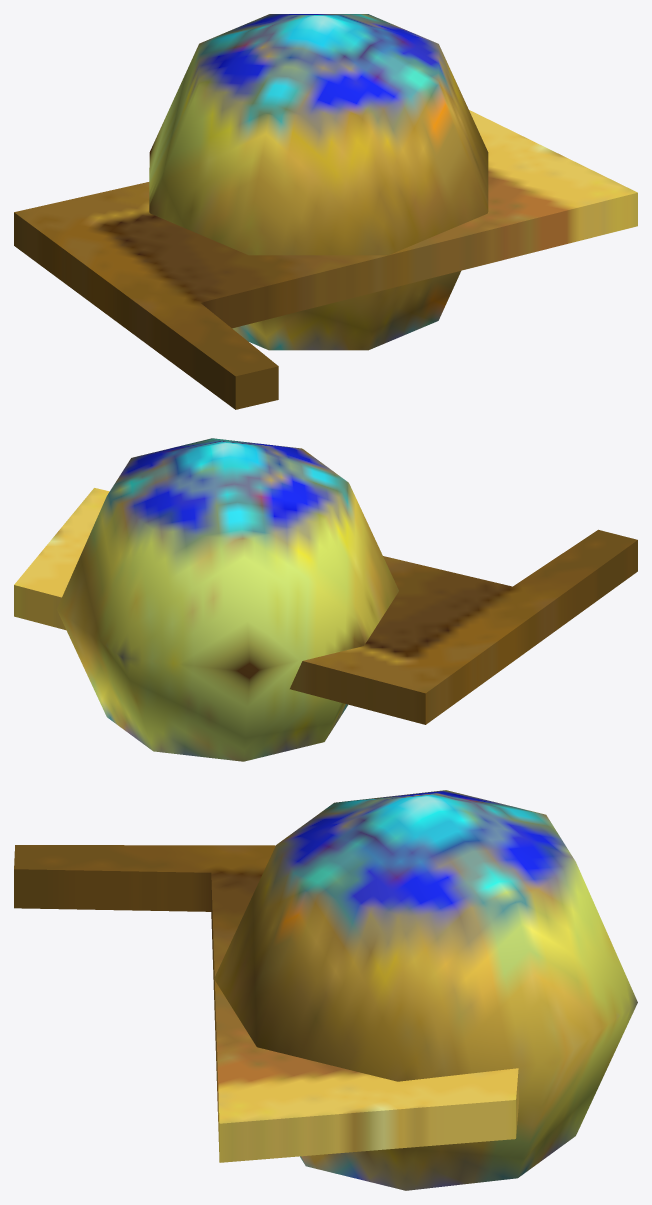
3 renders of one model, top to bottom at view 1: azimuth 30°, elevation 25°; view 2: azimuth 150°, elevation 25°; view 3: azimuth 270°, elevation 25°, orthographic. The views are drawn at different scales.
Visible parts, largest first — view 1: aw220; view 2: aw220; view 3: aw220.
Part boxes in pixels (bbox=[...]): aw220: bbox=[14, 14, 637, 409]; aw220: bbox=[14, 438, 637, 761]; aw220: bbox=[14, 790, 637, 1190].
Bounding box in the file's own units: 11.88 × 7.7 × 11.24.
Materials: 1 (1 with a texture image).
